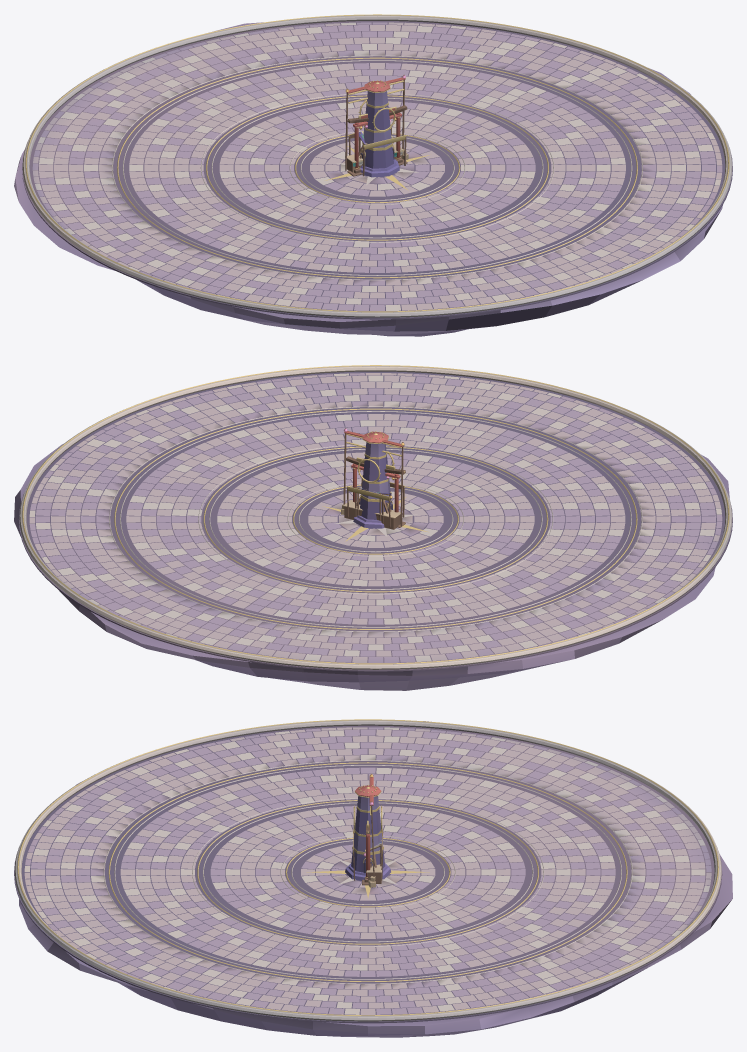
The model's file is bazaar_props.glb.
3 views of the same model, one above another, from view 1: azimuth 30°, elevation 25°; view 2: azimuth 150°, elevation 25°; view 3: azimuth 270°, elevation 25° (orthographic).
Visible parts, largest first — view 1: plaza, tower, bazaar_gate, wheel_stand; view 2: plaza, tower, wheel_stand, bazaar_gate, bz_stall_mimic_mesh; view 3: plaza, tower.
Boxes of the visible parts, x1,y1,x2,y2 form: plaza: (14, 14, 732, 336); tower: (348, 80, 406, 177); bazaar_gate: (347, 105, 407, 176); wheel_stand: (345, 74, 405, 172); plaza: (14, 365, 732, 690); tower: (347, 431, 404, 528); wheel_stand: (343, 428, 404, 526); bazaar_gate: (346, 456, 405, 527); bz_stall_mimic_mesh: (341, 500, 402, 529); plaza: (14, 719, 732, 1037); tower: (345, 785, 390, 880).
Bounding box in the file's own units: 53.31 × 19.42 × 52.78.
